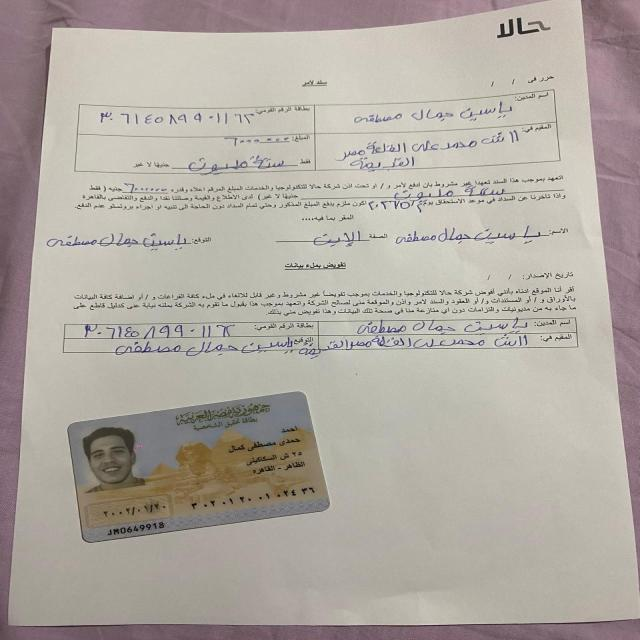ID-cards: (60, 387, 334, 548)
